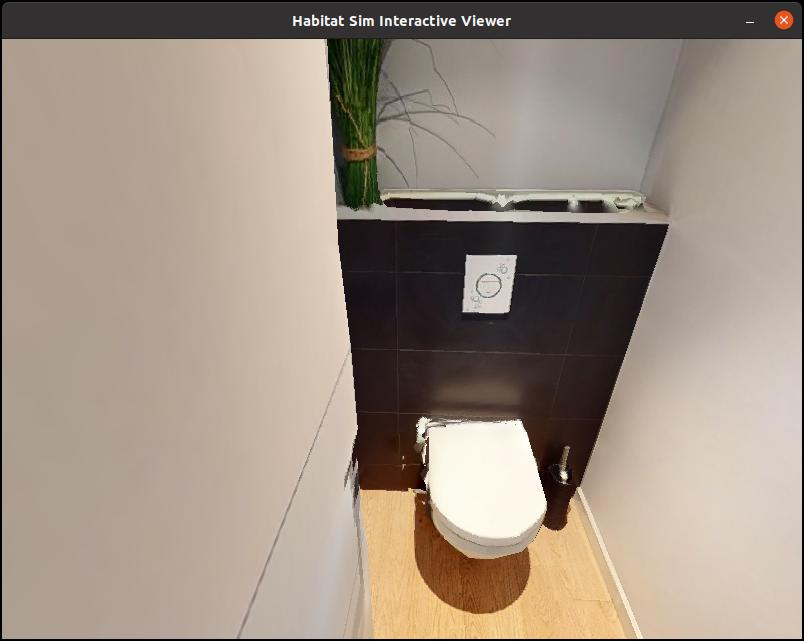toilet: (402, 384, 577, 585)
